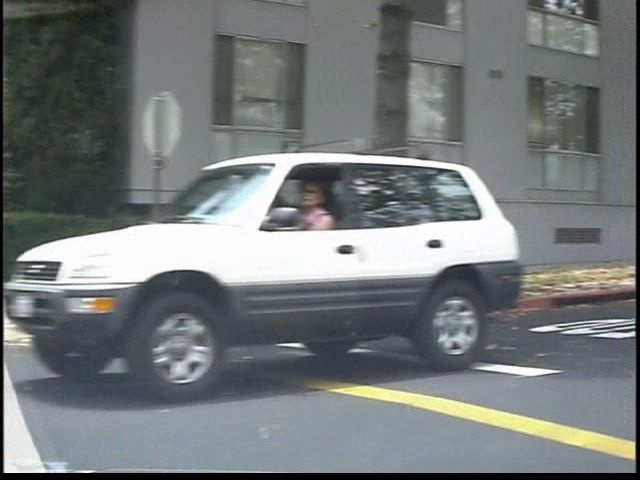person: (310, 171, 376, 381)
